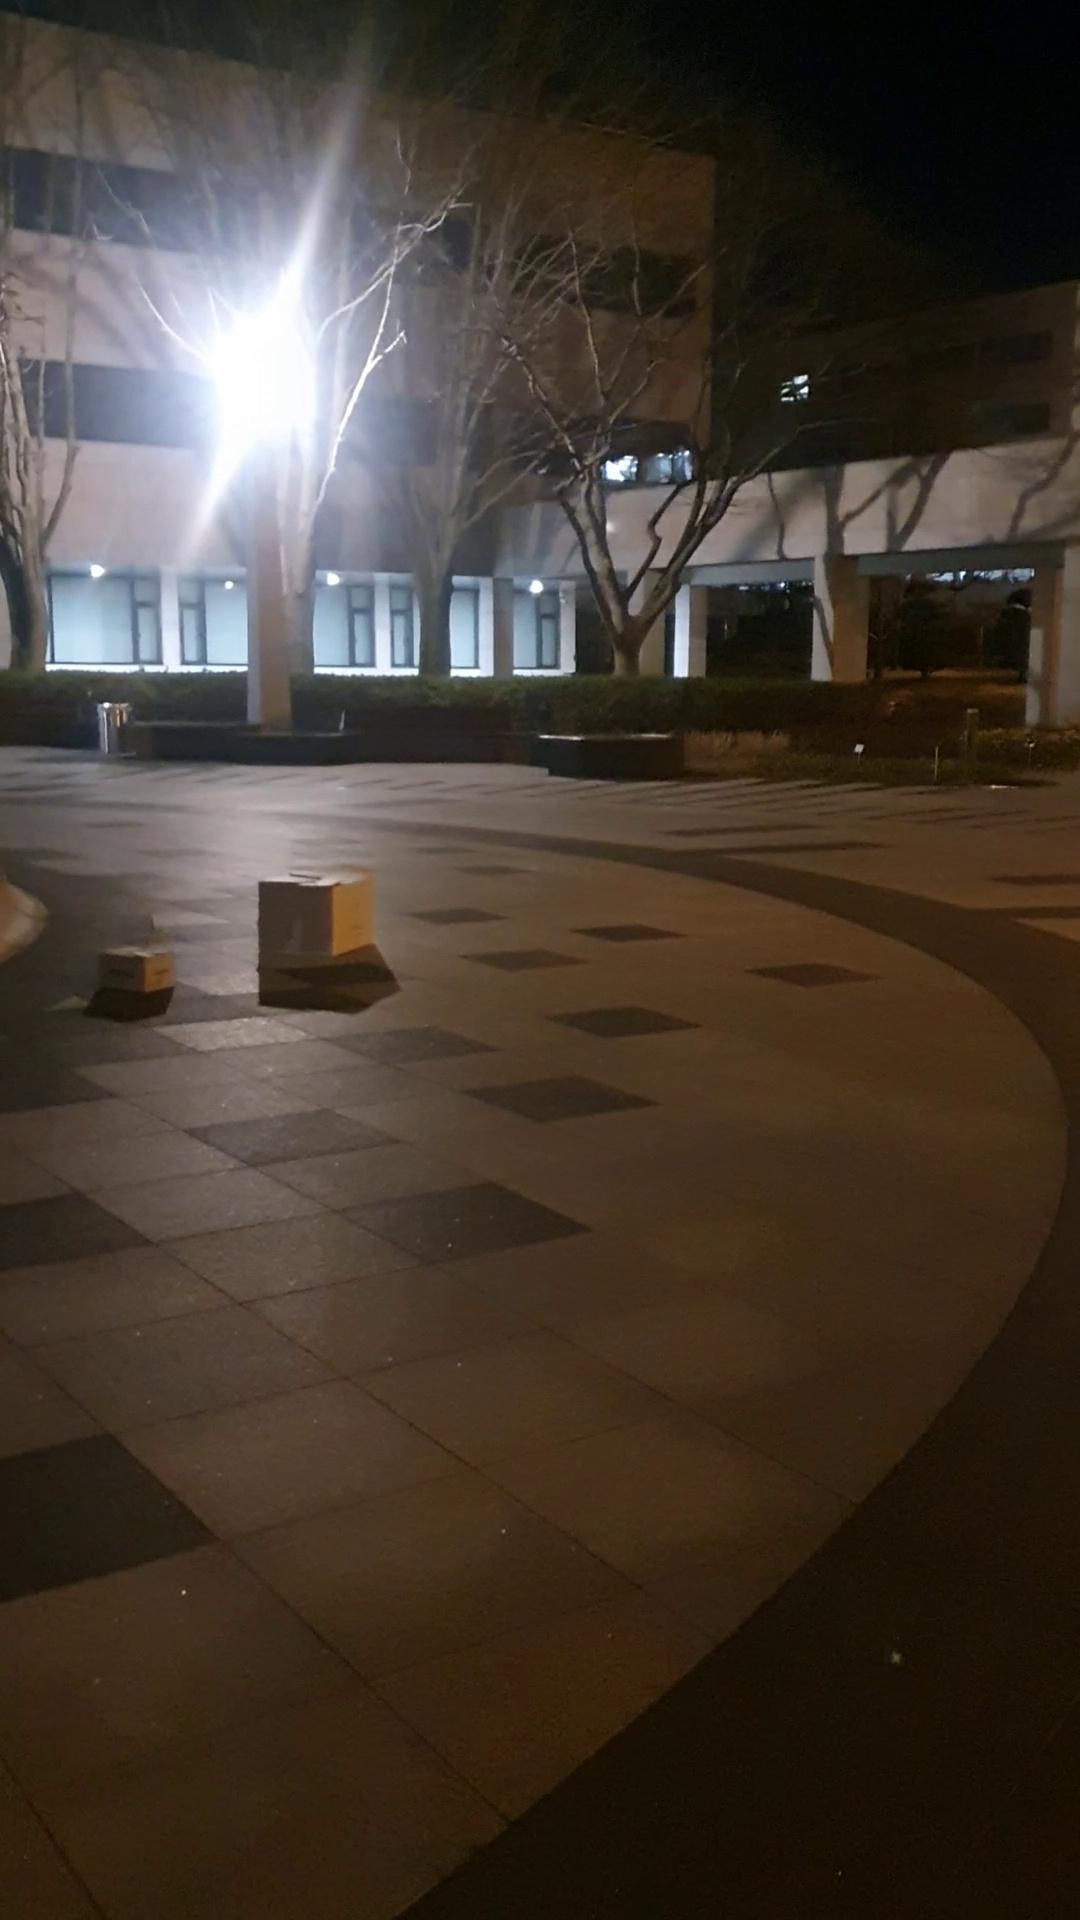Box: (253, 855, 382, 982), (80, 928, 193, 1005)
